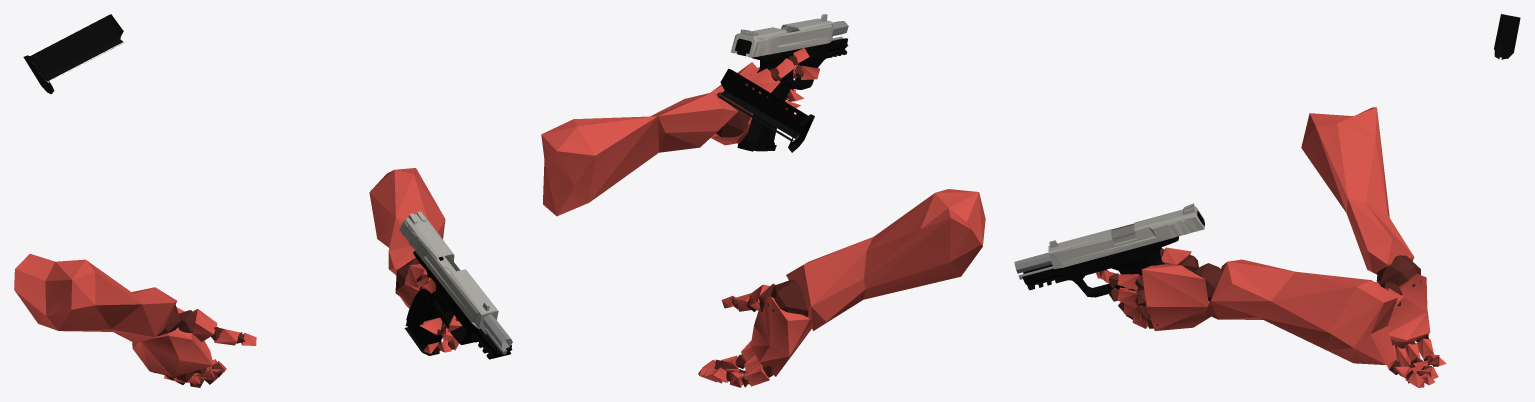
The model's file is M&P9reloadNormal1lowP_000110.obj.
3 views of the same model, side by side, from view 1: azimuth 30°, elevation 25°; view 2: azimuth 150°, elevation 25°; view 3: azimuth 270°, elevation 25° (orthographic). The views are drawn at different scales.
Visible parts, largest first — view 1: Beta_Surface.001_Beta_Surface.002, slide_平面.002, triger_平面.001, magazine.002_平面.005, Beta_Joints.001_Beta_Joints.002; view 2: Beta_Surface.001_Beta_Surface.002, magazine.002_平面.005, triger_平面.001, Beta_Joints.001_Beta_Joints.002, slide_平面.002; view 3: Beta_Surface.001_Beta_Surface.002, slide_平面.002, triger_平面.001, Beta_Joints.001_Beta_Joints.002, magazine.002_平面.005.
Boxes of the visible parts, left/top/right/bottom form: Beta_Surface.001_Beta_Surface.002: left=14, top=168, right=461, bottom=383; slide_平面.002: left=399, top=211, right=498, bottom=334; triger_平面.001: left=405, top=251, right=512, bottom=359; magazine.002_平面.005: left=23, top=14, right=123, bottom=94; Beta_Joints.001_Beta_Joints.002: left=155, top=257, right=458, bottom=387; Beta_Surface.001_Beta_Surface.002: left=541, top=48, right=985, bottom=387; magazine.002_平面.005: left=717, top=68, right=814, bottom=152; triger_平面.001: left=737, top=21, right=848, bottom=151; Beta_Joints.001_Beta_Joints.002: left=714, top=56, right=808, bottom=387; slide_平面.002: left=730, top=14, right=833, bottom=57; Beta_Surface.001_Beta_Surface.002: left=1096, top=107, right=1446, bottom=387; slide_平面.002: left=1048, top=203, right=1204, bottom=269; triger_平面.001: left=1014, top=236, right=1178, bottom=297; Beta_Joints.001_Beta_Joints.002: left=1100, top=248, right=1438, bottom=383; magazine.002_平面.005: left=1494, top=14, right=1520, bottom=59.
Size of the model in its own units: 97.78 by 75.59 by 105.
